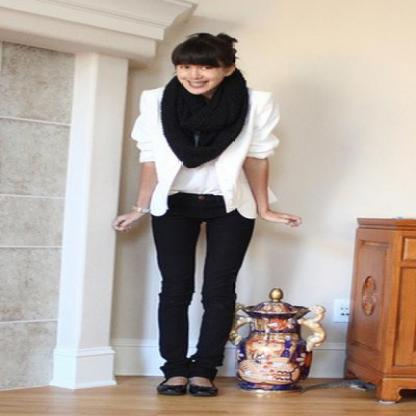jacket: (131, 86, 279, 218)
pants: (151, 192, 254, 381)
shirt: (167, 160, 216, 196)
shoe: (157, 378, 218, 396)
